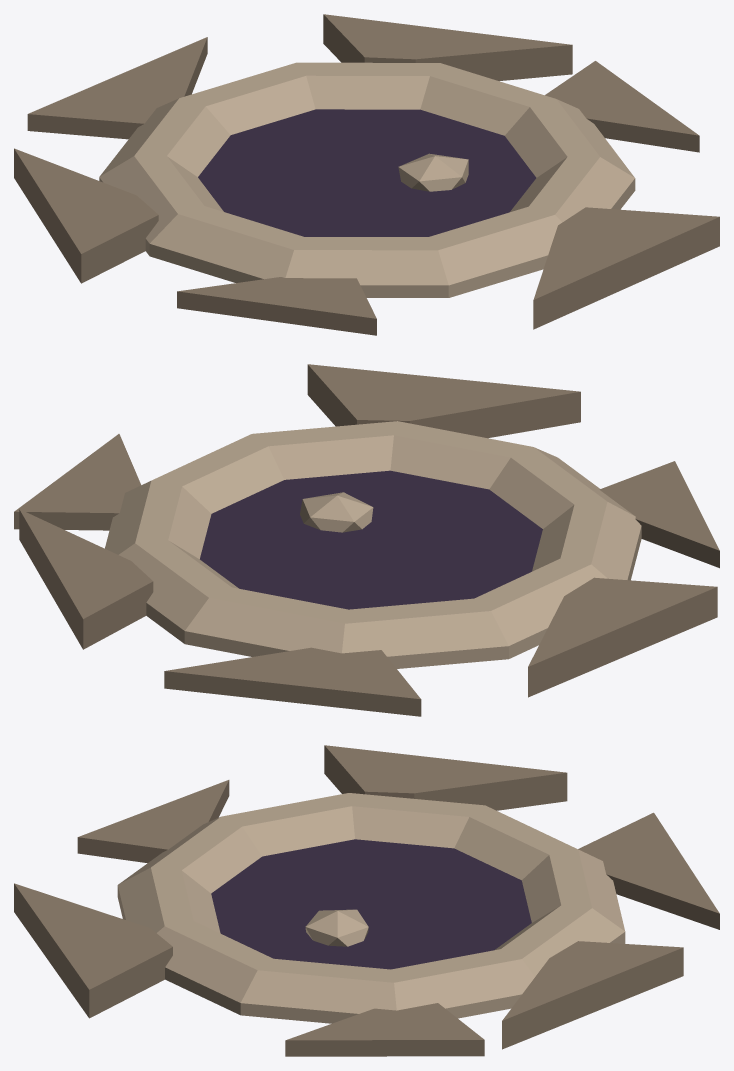
File: crater-m.glb
3 renders of one model, top to bottom at view 1: azimuth 30°, elevation 25°; view 2: azimuth 150°, elevation 25°; view 3: azimuth 270°, elevation 25°, orthographic. The views are drawn at different scales.
Parts seen in each view (by area): view 1: crater-m; view 2: crater-m; view 3: crater-m.
Part boxes in pixels (x1,y1,x2,y2): crater-m: [14, 14, 719, 335]; crater-m: [14, 364, 719, 716]; crater-m: [14, 745, 719, 1056].
Bounding box in the file's own units: 1.48 × 0.1032 × 1.56.
